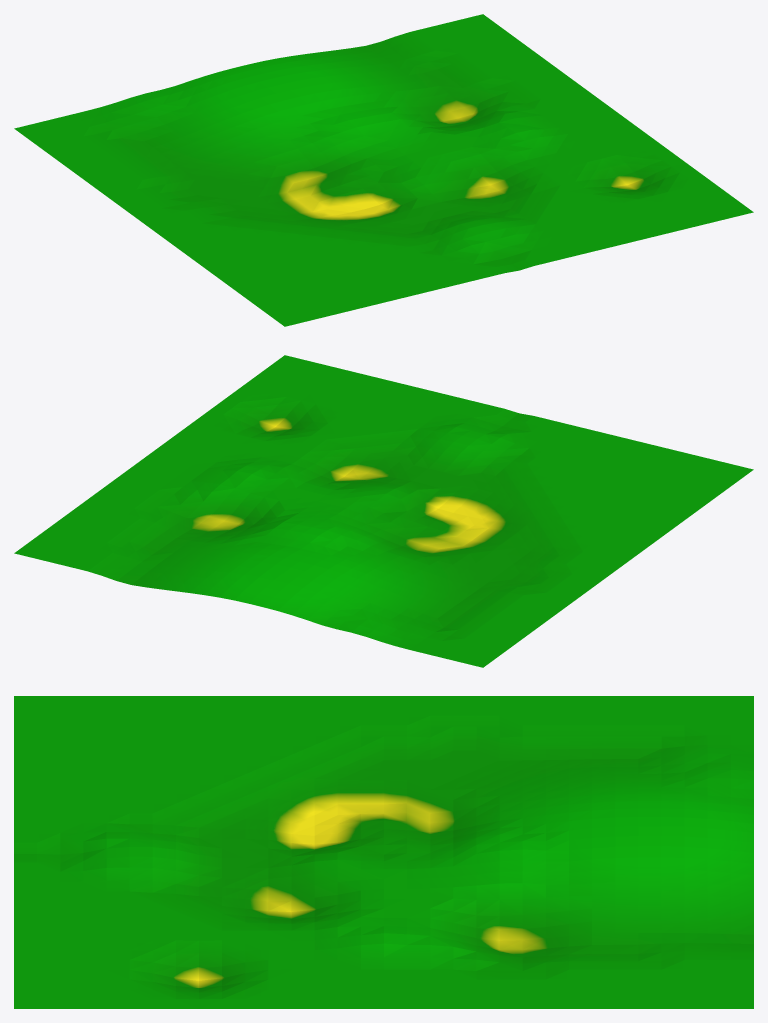
File: stage.obj
The picture shows the model from 3 angles, top to bottom: view 1: azimuth 30°, elevation 25°; view 2: azimuth 150°, elevation 25°; view 3: azimuth 270°, elevation 25°; orthographic projection. The views are drawn at different scales.
Parts seen in each view (by area): view 1: 基盤.001; view 2: 基盤.001; view 3: 基盤.001.
Part boxes in pixels (x1,y1,x2,y2): 基盤.001: (14,14,753,326); 基盤.001: (14,355,753,667); 基盤.001: (14,696,753,1008).
Size of the model in its own units: 300 by 13.07 by 300.
1 material, 1 textured.
